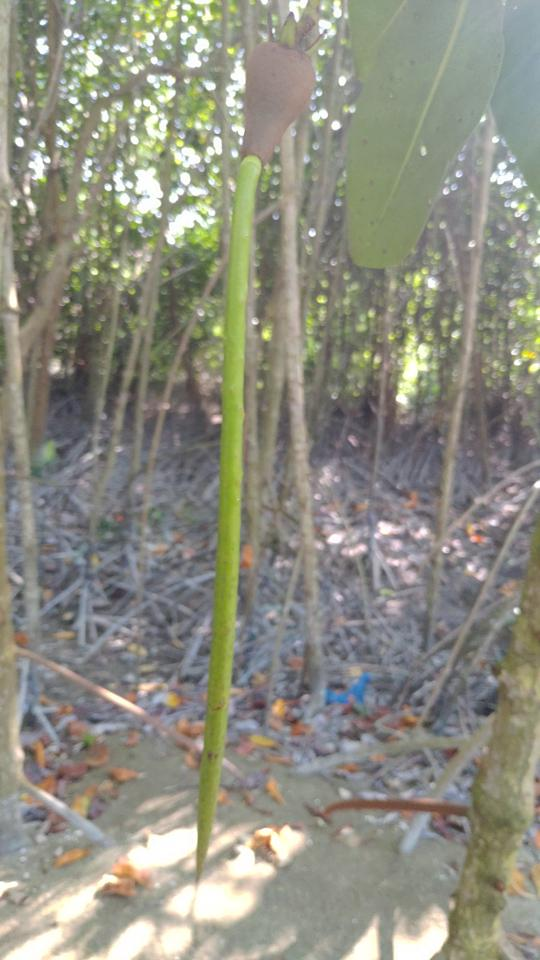setengah matang: (183, 10, 335, 890)
